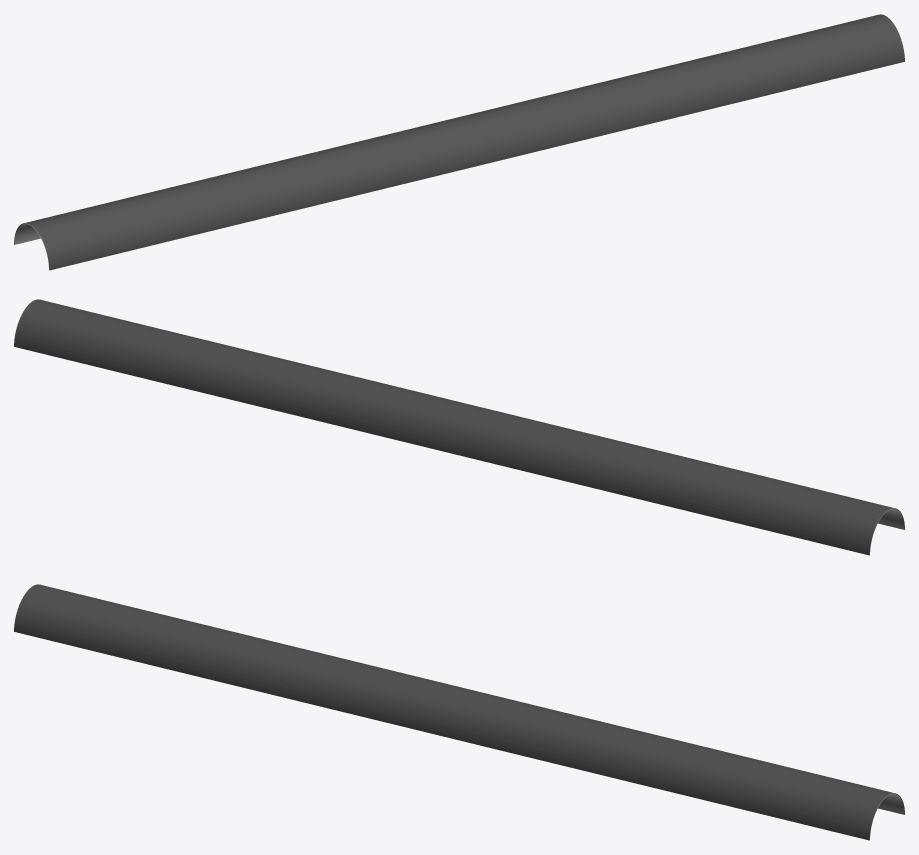
The model's file is tunnel_visual.obj.
3 views of the same model, one above another, from view 1: azimuth 30°, elevation 25°; view 2: azimuth 150°, elevation 25°; view 3: azimuth 330°, elevation 25° (orthographic).
Visible parts, largest first — view 1: Tunnel_Outer; view 2: Tunnel_Outer; view 3: Tunnel_Outer.
Boxes of the visible parts, bbox=[...] form: Tunnel_Outer: bbox=[14, 14, 904, 270]; Tunnel_Outer: bbox=[14, 299, 904, 555]; Tunnel_Outer: bbox=[14, 584, 904, 840].
Size of the model in its own units: 10 by 0.357 by 0.714.
Materials: 2 (1 with a texture image).
